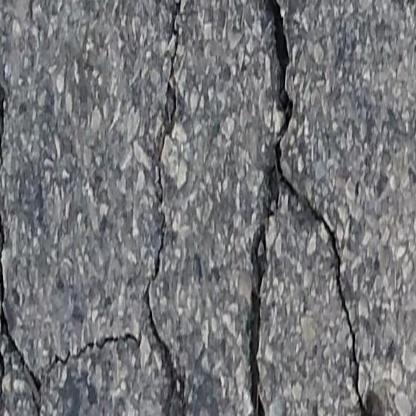Cracks: (244, 0, 353, 416), (0, 302, 147, 416), (139, 178, 193, 416), (344, 320, 386, 416), (0, 59, 14, 279), (153, 100, 185, 171), (176, 84, 192, 99)
